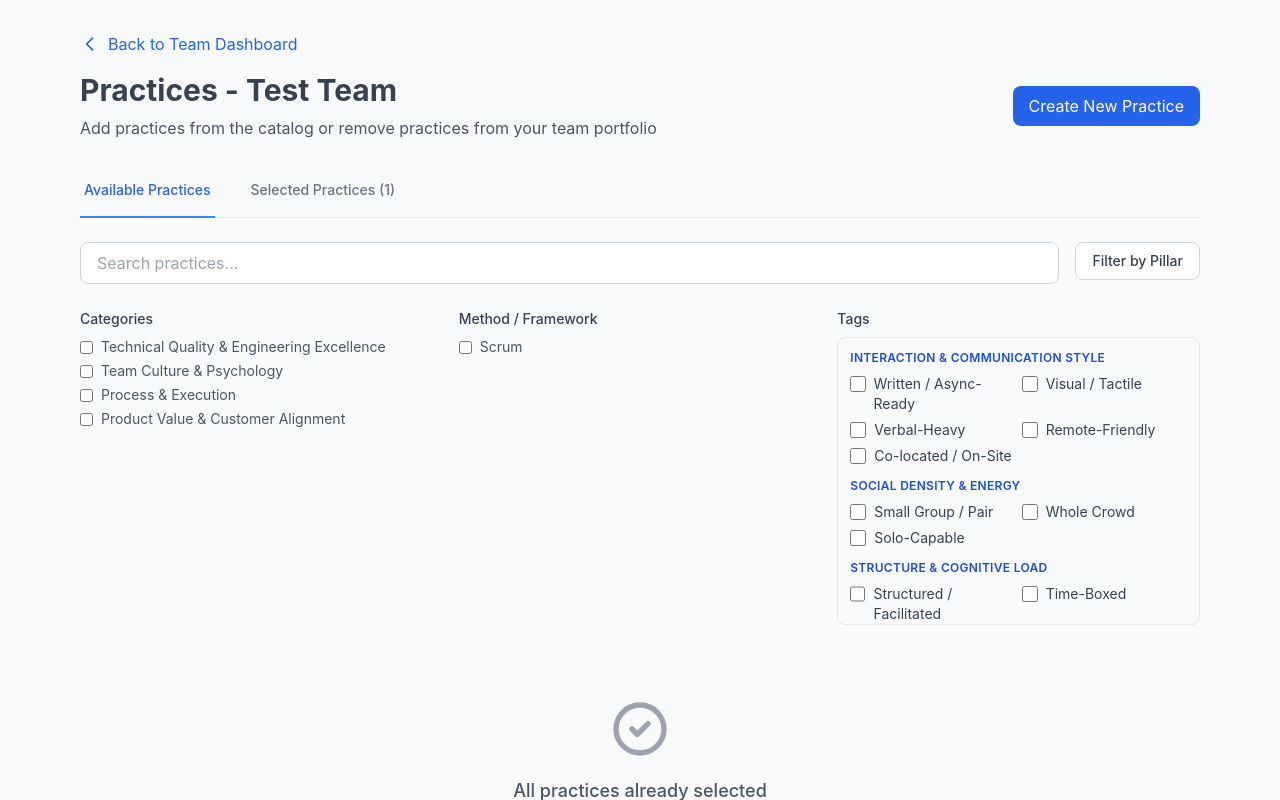
ManagePracticesView › shows non-blocking error while keeping practice list visible
Step 1. Click the button "Selected Practices (1)" → (323, 191), box [246, 164, 399, 218]
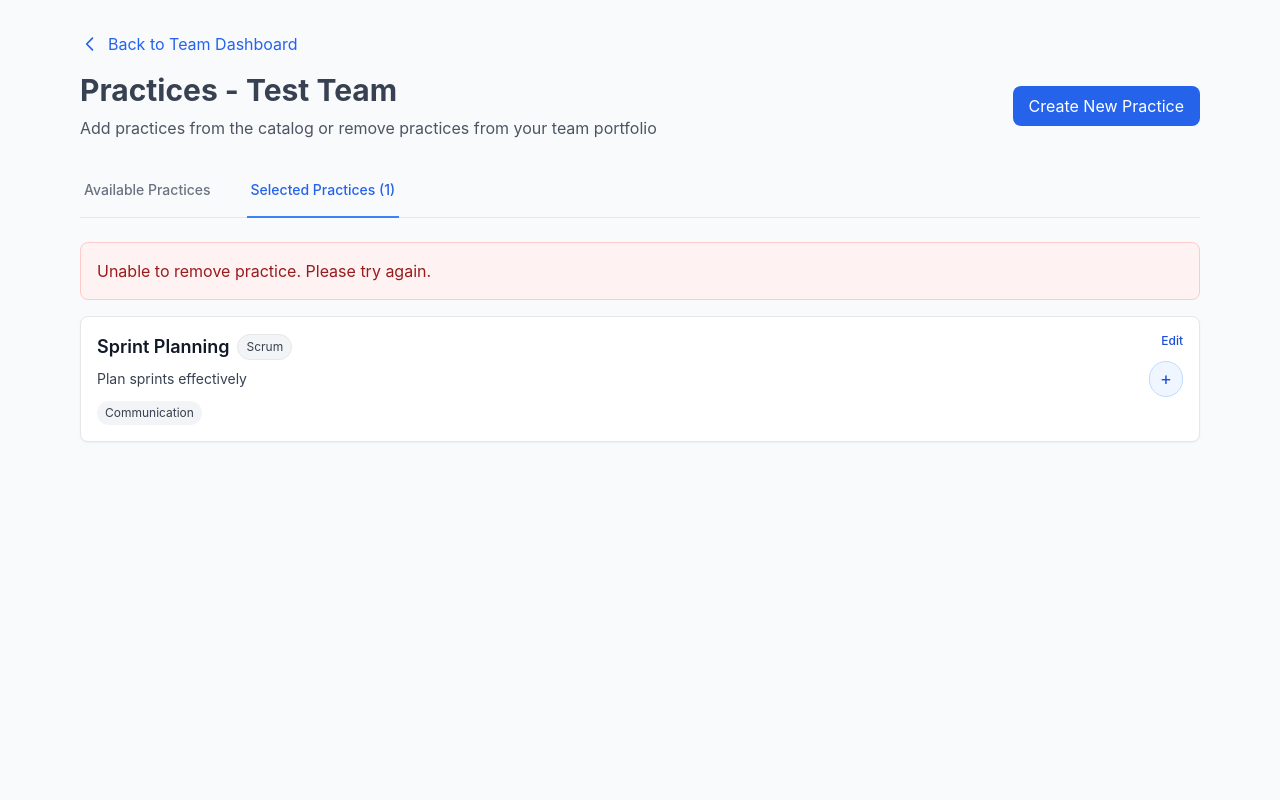
Expected: the text "Unable to remove practice. Please try again." is shown, [97, 261, 431, 281]
Expected: the heading "Sprint Planning" is shown, [97, 333, 230, 361]
